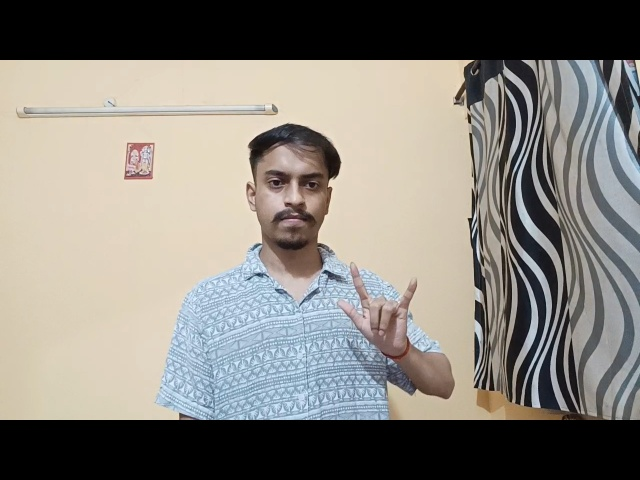ILoveyou: (335, 255, 425, 368)
